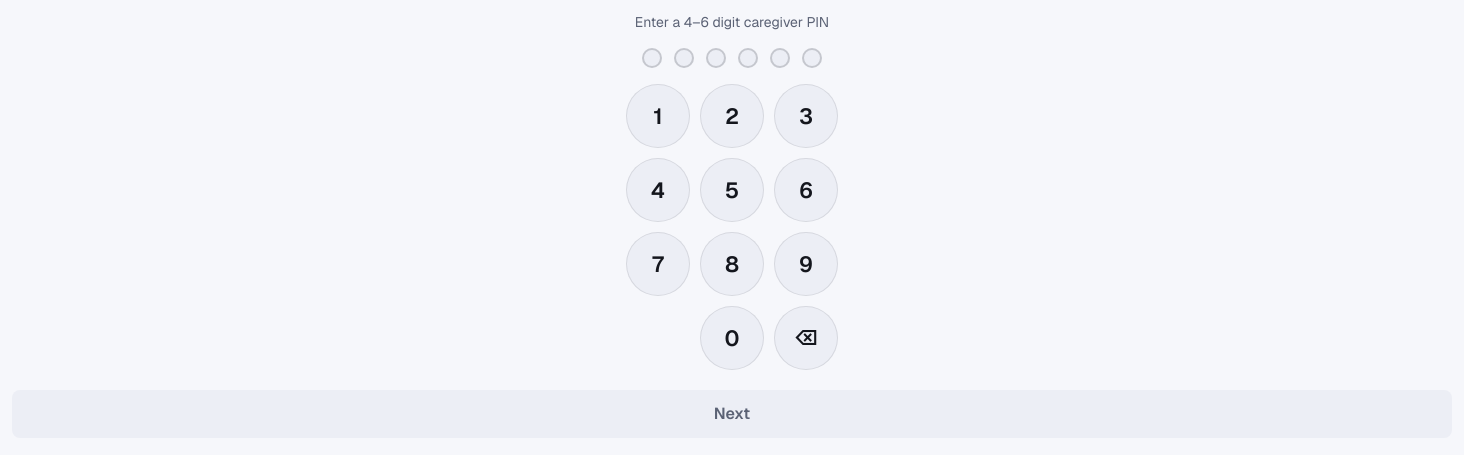
PinPad — setup mode (no pinHash, onSetPin provided) › entering 4+ digits and tapping Next advances to confirm step
Click the button "1".
click(658, 116)  # box [626,84,690,148]
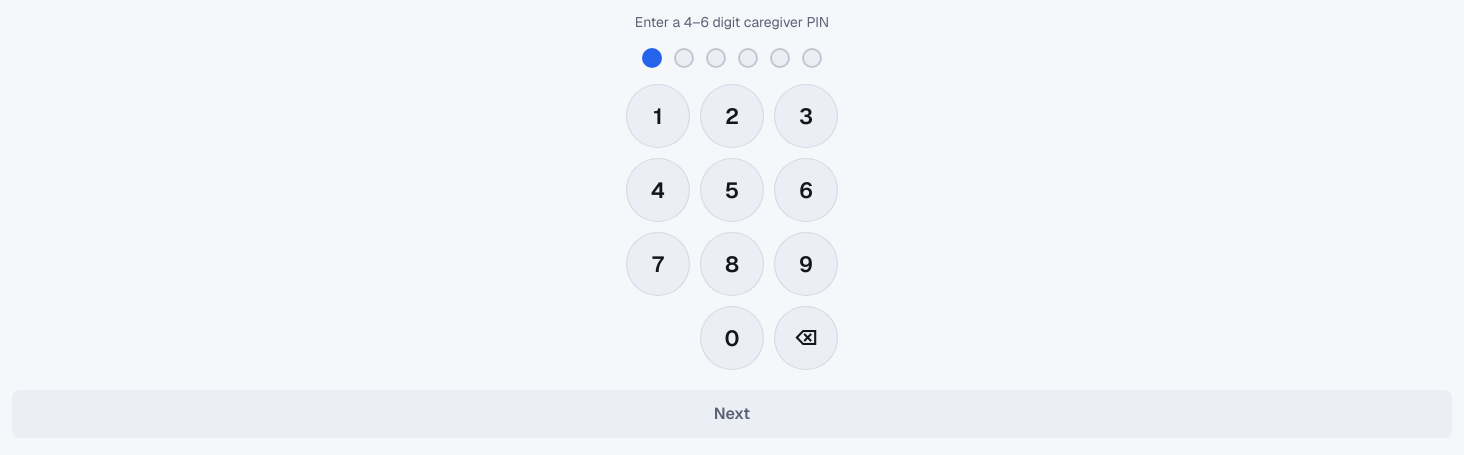
Click the button "2".
click(732, 116)  # box [700,84,764,148]
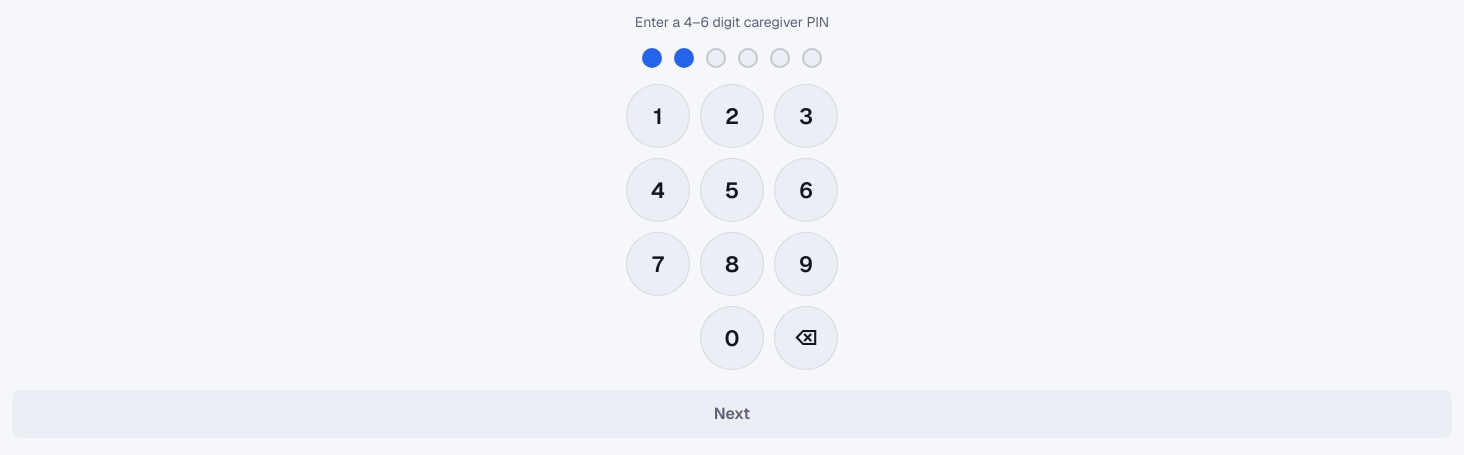
Click the button "3".
click(806, 116)  # box [774,84,838,148]
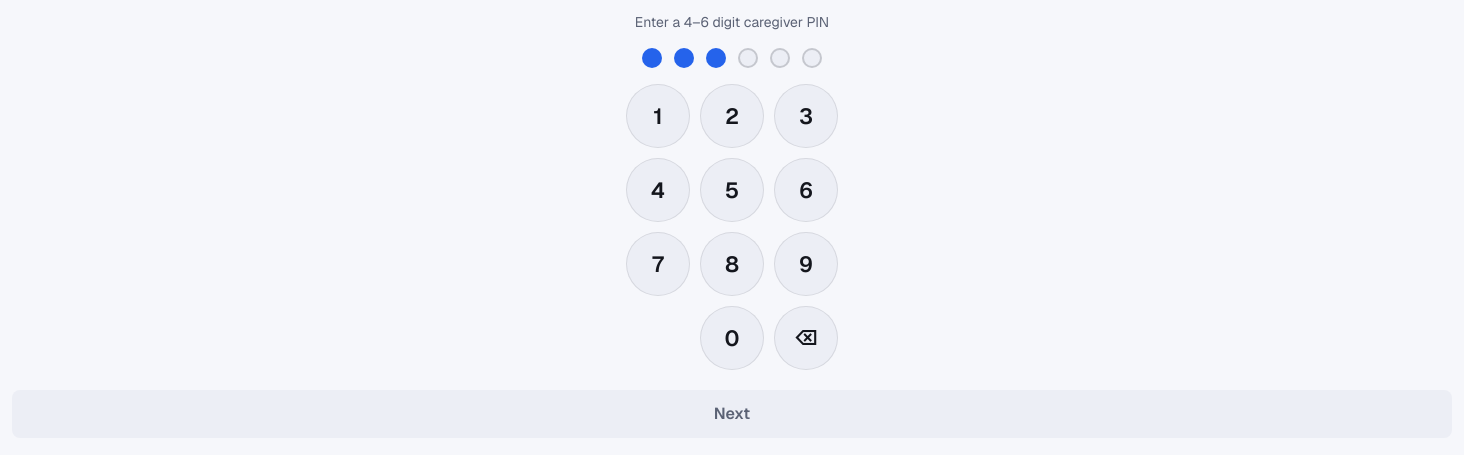
Click the button "4".
click(658, 190)  # box [626,158,690,222]
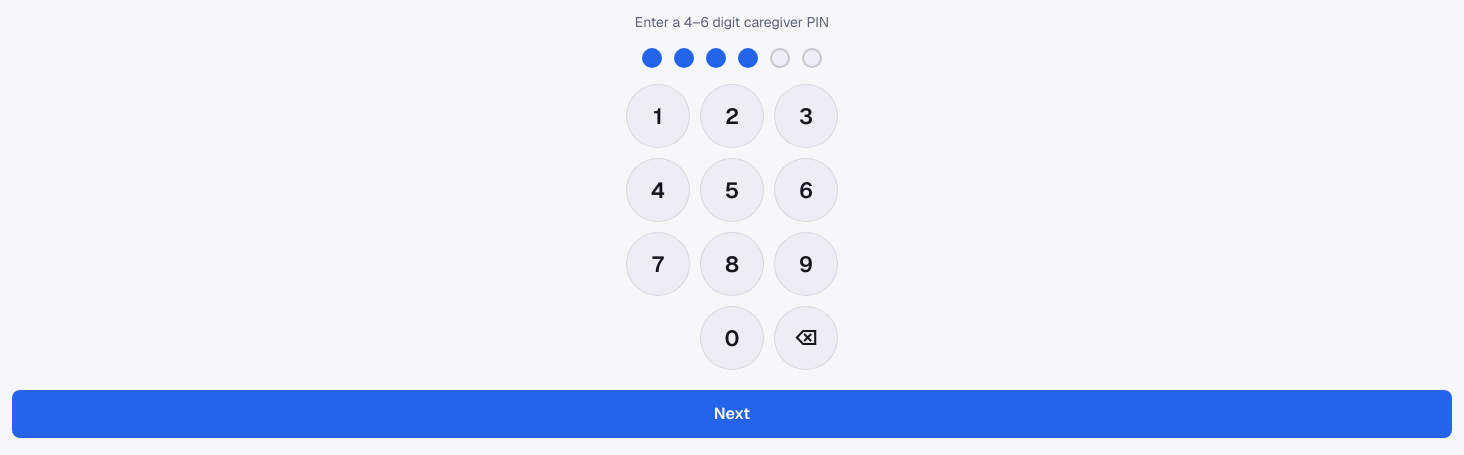
Click the button "Next".
click(732, 414)  # box [12,390,1452,438]
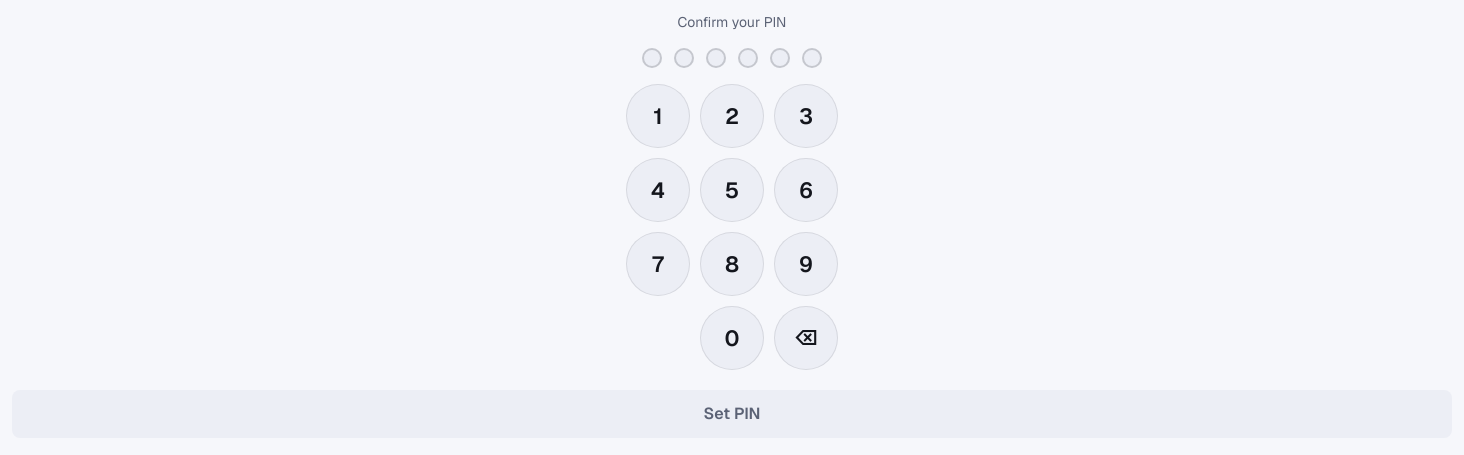
Check: the text "Confirm your PIN" is shown, box [678,12,786,32]
Check: the button "Set PIN" is shown, box [12,390,1452,438]
